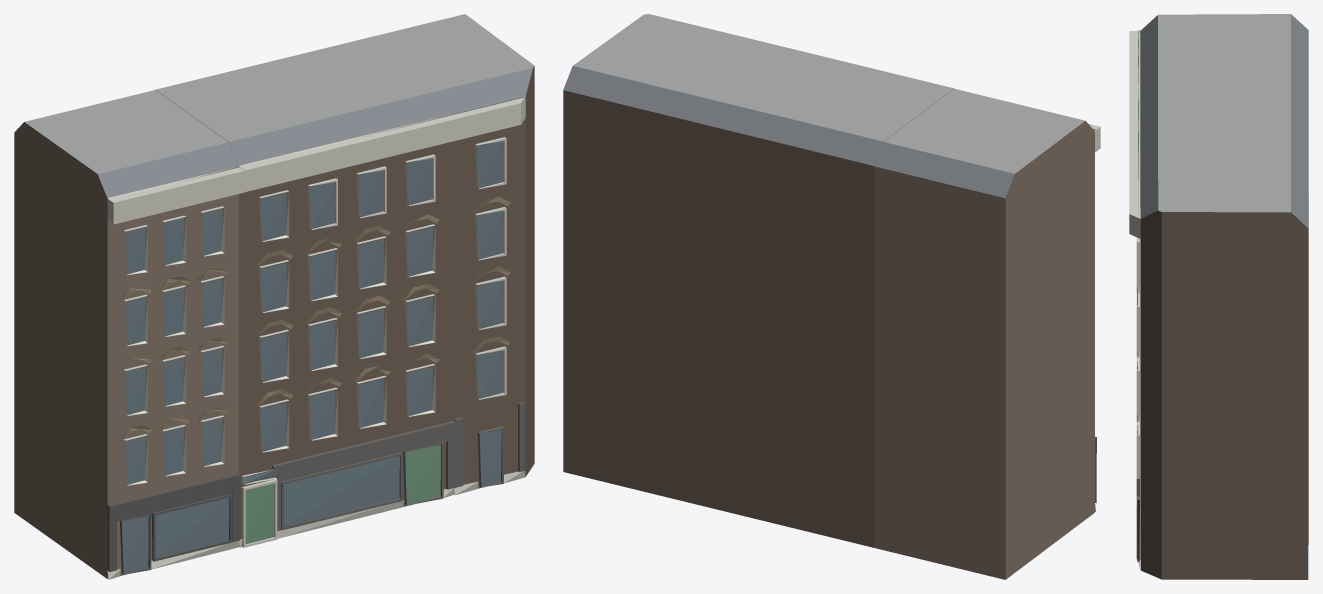
File: chunk-face-kinker-112-116.lod2.glb
The picture shows the model from 3 angles, left to right: view 1: azimuth 30°, elevation 25°; view 2: azimuth 150°, elevation 25°; view 3: azimuth 270°, elevation 25°; orthographic projection. The views are drawn at different scales.
Visible parts, largest first — view 1: lod2; view 2: lod2; view 3: lod2.
Part boxes in pixels (left/top/right/bottom): lod2: left=14, top=14, right=534, bottom=579; lod2: left=563, top=14, right=1100, bottom=579; lod2: left=1129, top=14, right=1308, bottom=579.
Bounding box in the file's own units: 17.04 × 14.69 × 6.49.
